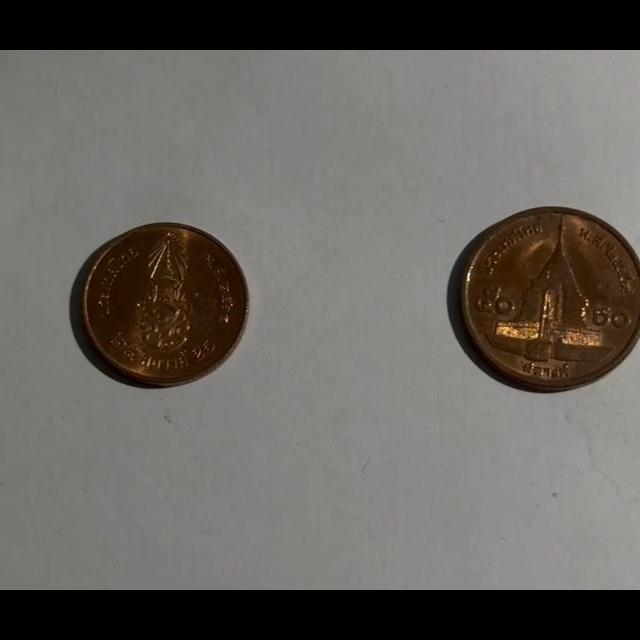25-satang: (79, 224, 248, 386)
50-satang: (454, 208, 640, 389)
